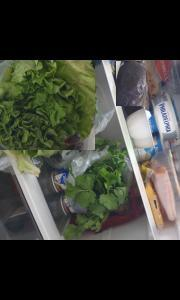Aguacate: (115, 61, 145, 106)
Lechuga/Endivia: (0, 60, 94, 150)
Queso: (153, 92, 177, 142)
